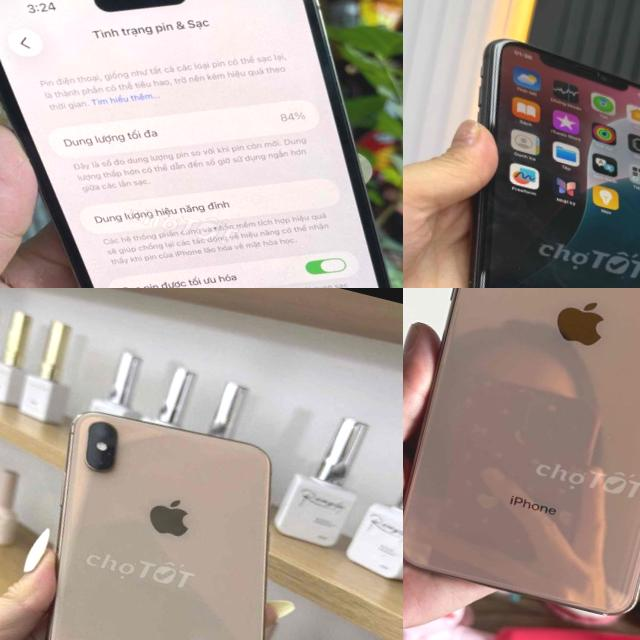gen_11: (408, 22, 640, 288)
gen_14: (0, 0, 403, 288)
gen_x_xs: (403, 288, 640, 638), (0, 395, 338, 640)
